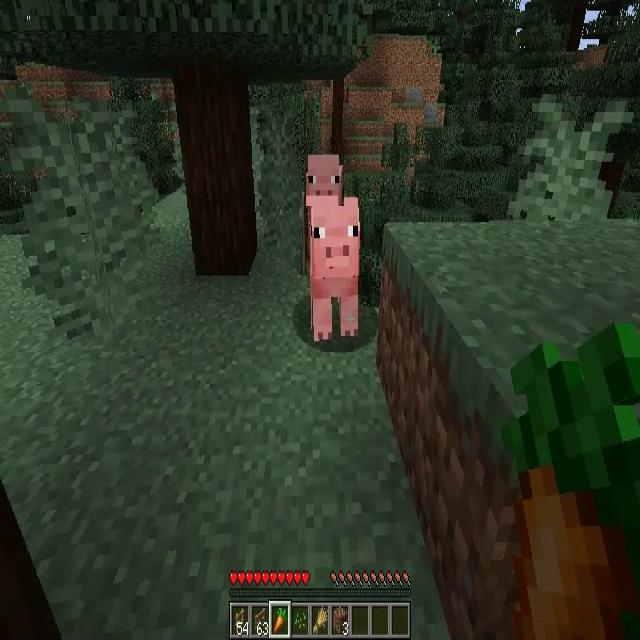pig: (312, 198, 358, 342), (306, 154, 344, 207)
